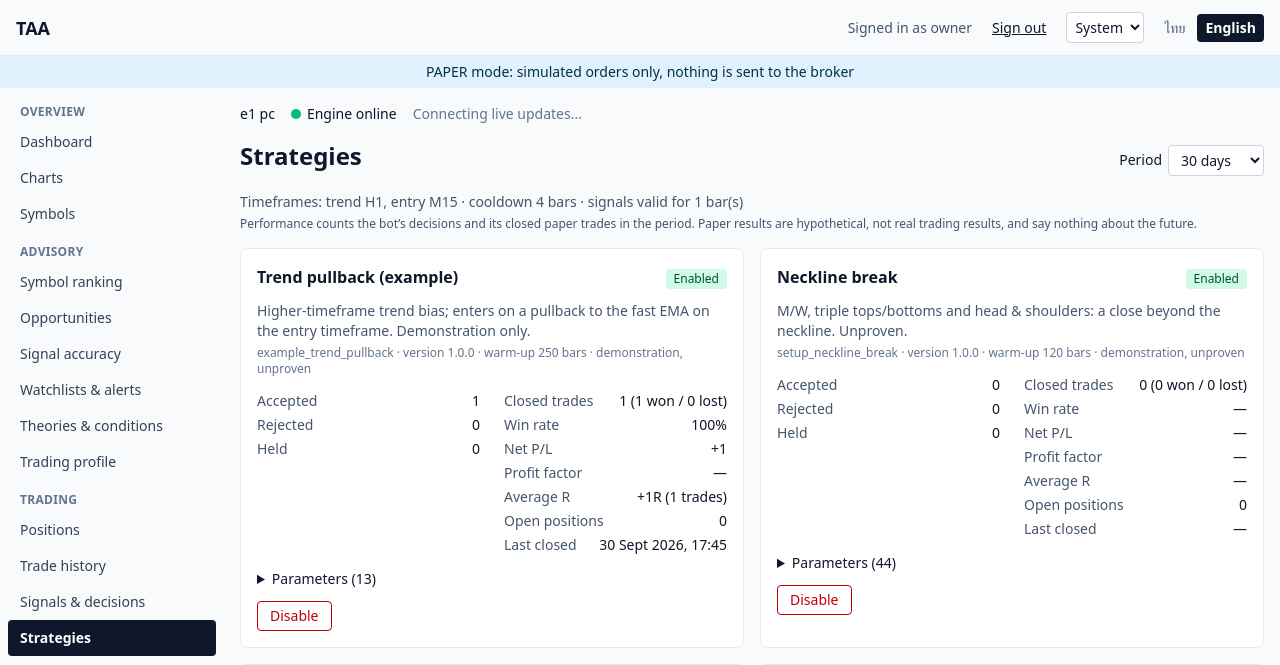
strategies page › names parameter choices and yes/no values
Expected: the element "Neckline break" shows "setup_neckline_break", x1=777 y1=344 x2=1245 y2=360
Click the heading "Parameters (44)": {"x": 844, "y": 562} x1=792 y1=552 x2=896 y2=572
(page scrolled)
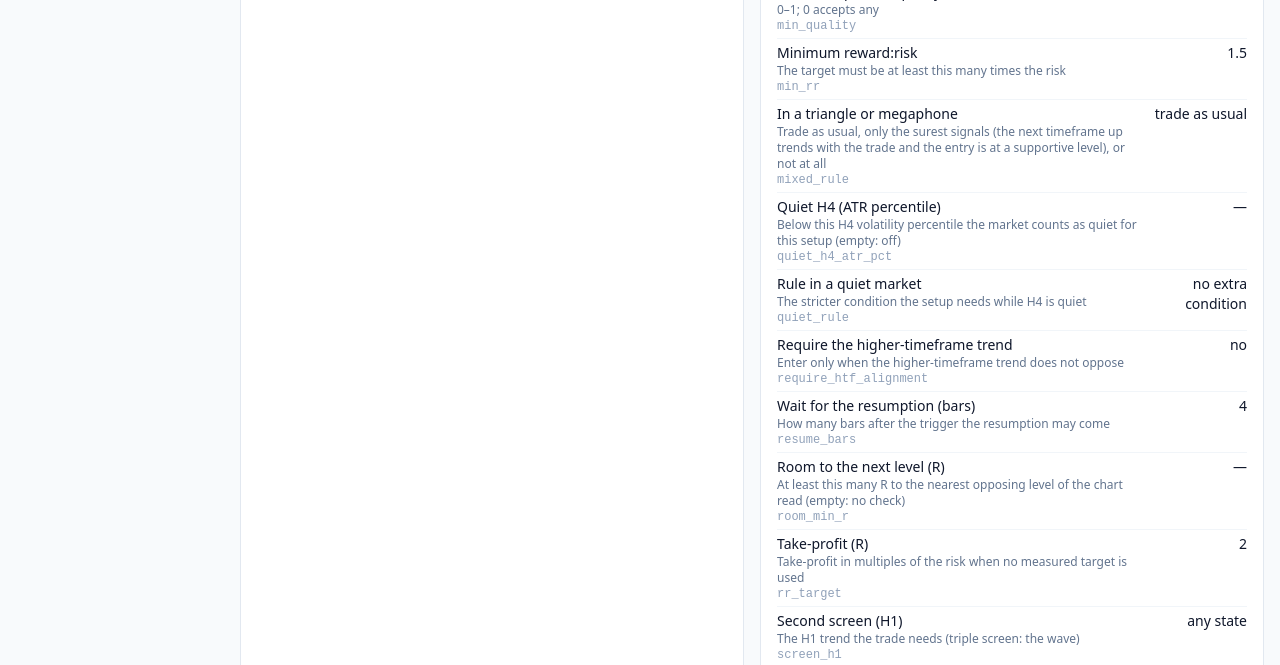
Result: the row named "require_htf_alignment" shows "no" at x1=777 y1=330 x2=1247 y2=391
